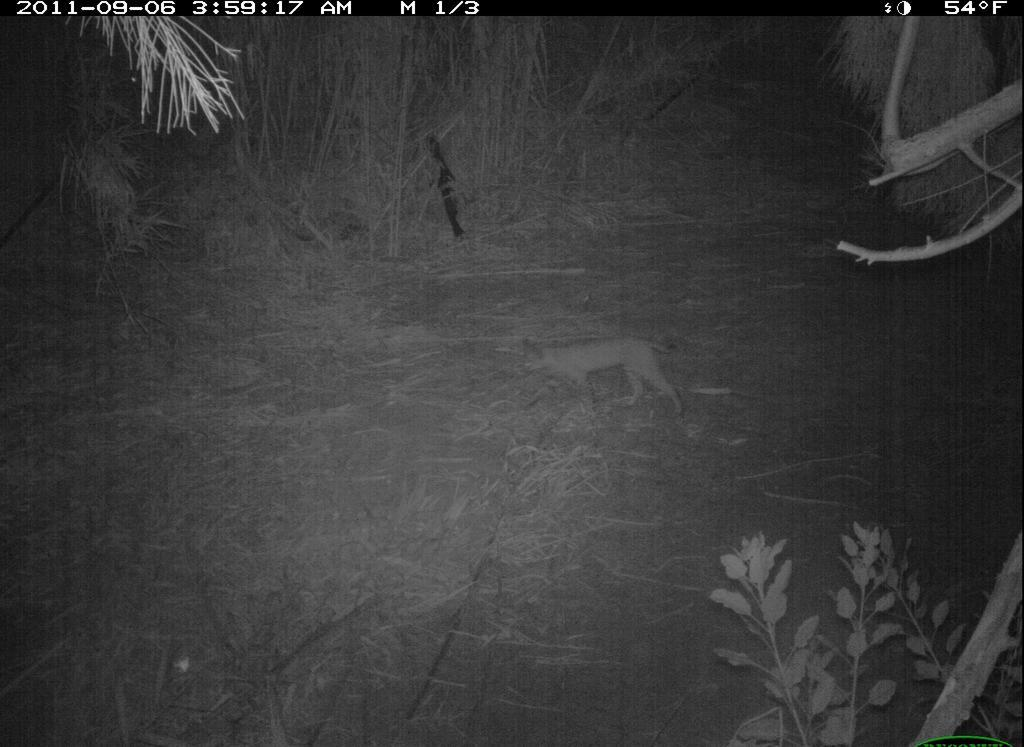bobcat: (507, 329, 701, 428)
